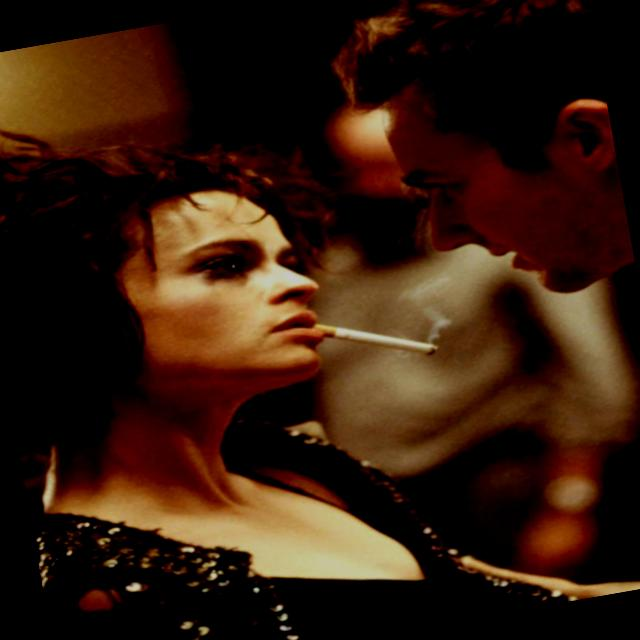smoke: (292, 288, 459, 406)
